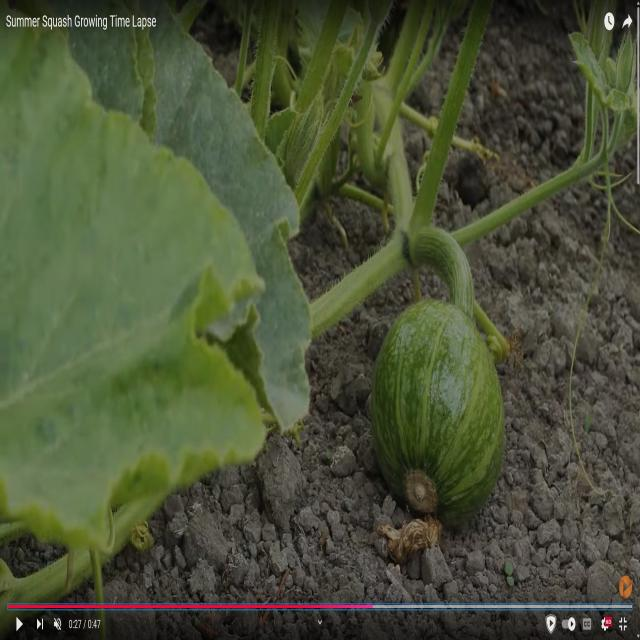squash: (361, 289, 510, 522)
